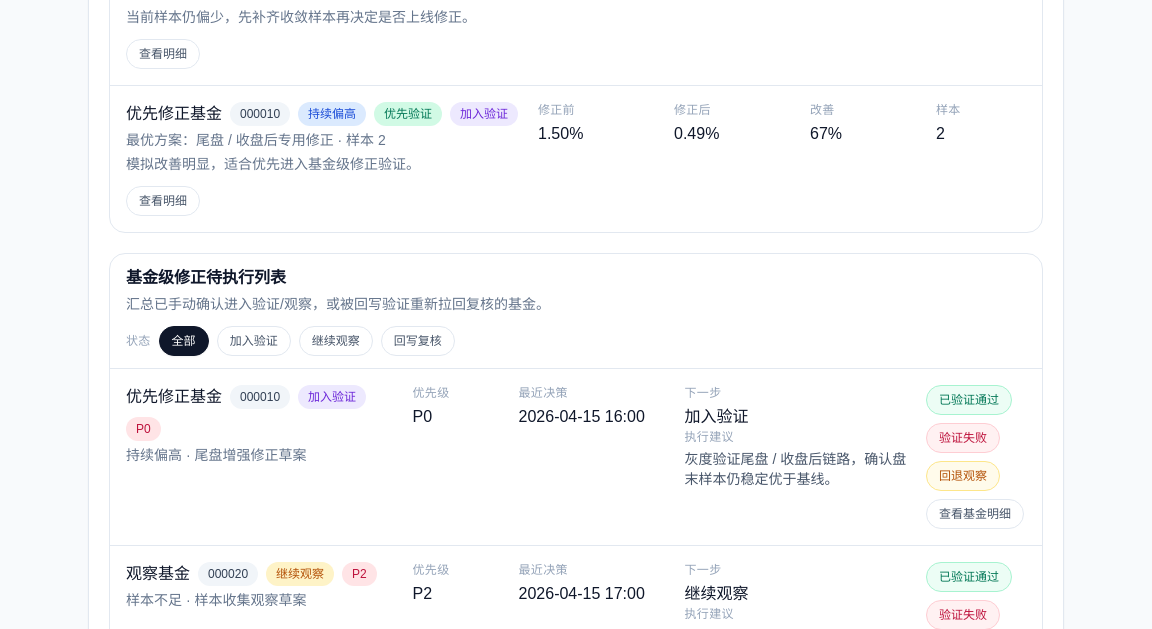
Test case: AccuracyDashboard › filters execution items and jumps back to the related fund detail
(page scrolled)
Check: the text "优先修正基金" below "汇总已手动确认进入验证/观察，或被回写验证重新拉回复核的基金。" is shown, box 126,388 -> 222,405
Check: the 2nd text "P0" is shown, box 126,417 -> 161,441
Click the button with test id "accuracy-adjustment-execution-filter-watch": (336, 341) 299,326 -> 373,356
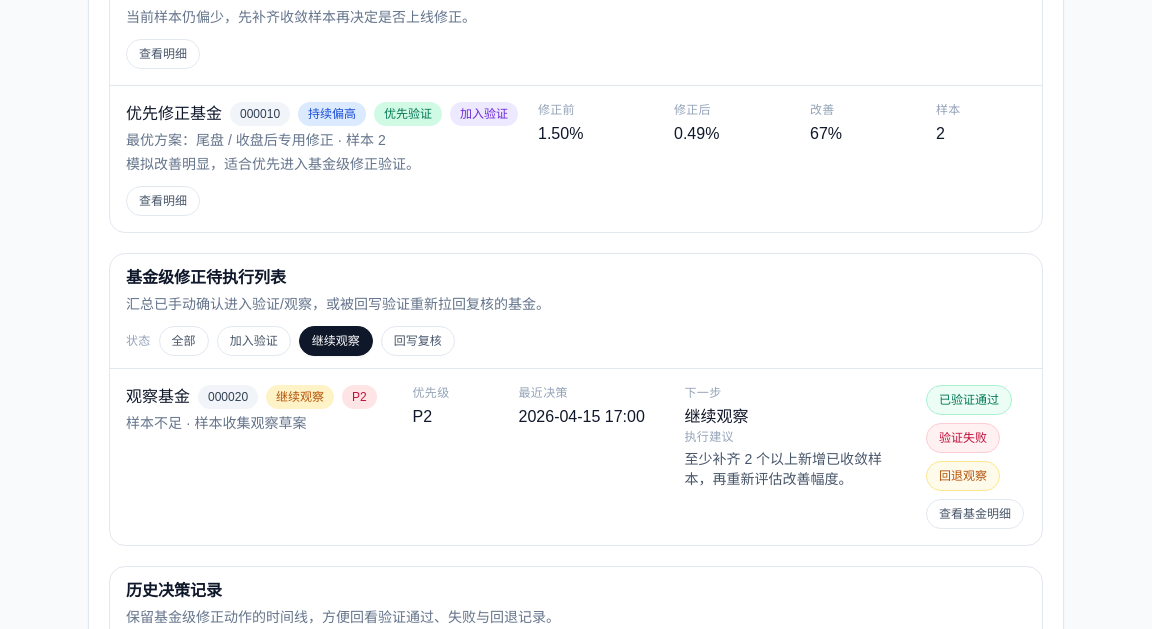
Check: the text "观察基金" in the row of "优先级" is shown, box 126,388 -> 190,405
Check: the number of elements with test id "accuracy-adjustment-decision-row" is 1, box 110,369 -> 1042,545
Click the button with test id "accuracy-adjustment-execution-open-000020": (975, 514) 926,499 -> 1024,529
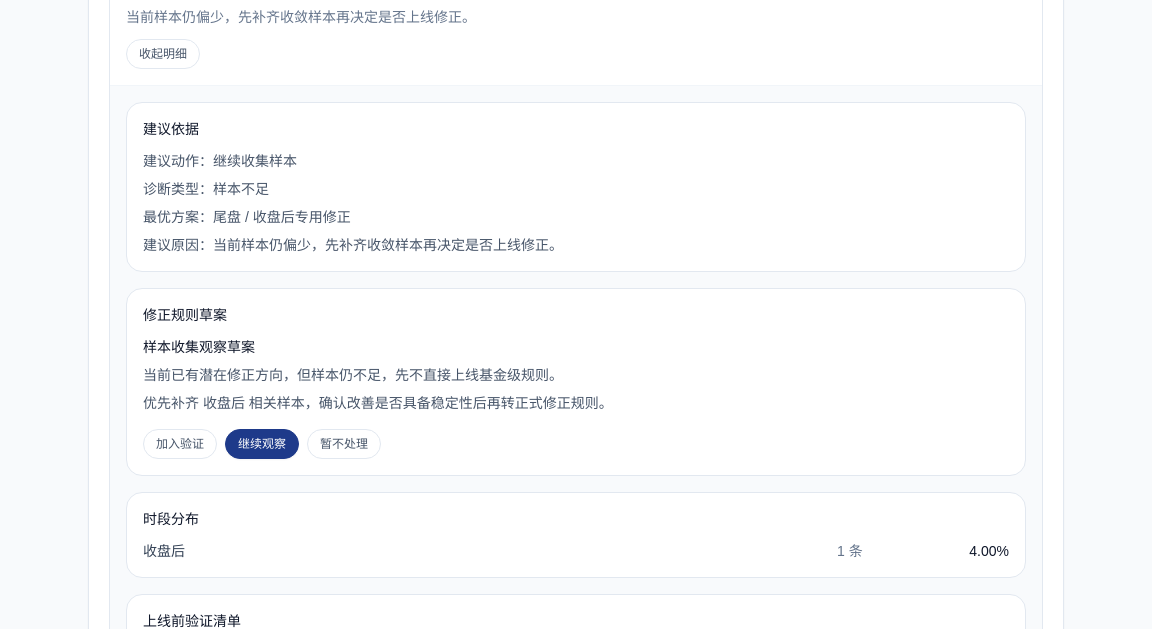
Check: the text "建议依据" is shown, box 143,121 -> 199,137
Check: the text "建议动作：继续收集样本" is shown, box 143,153 -> 297,169
